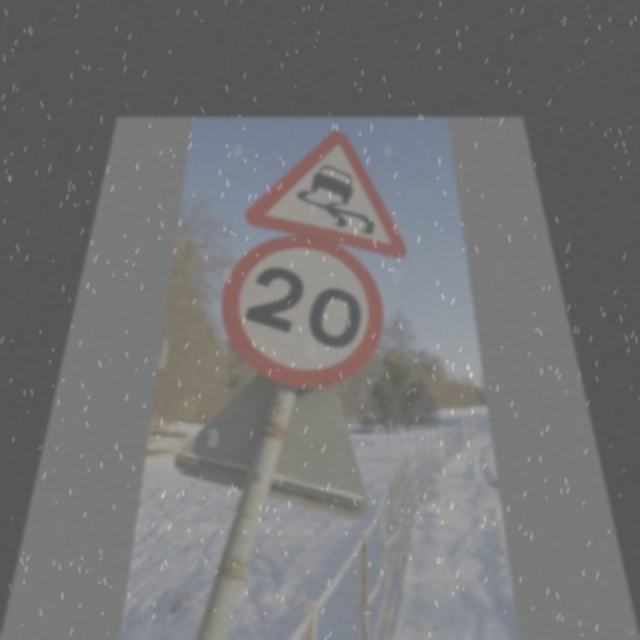Slippery_Road: (247, 131, 403, 248)
